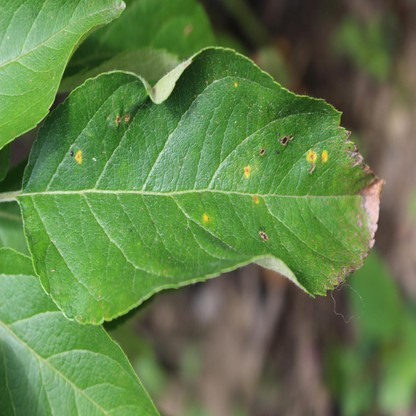rust: (356, 172, 385, 249), (351, 154, 368, 170), (307, 148, 316, 161), (242, 165, 249, 177), (75, 150, 81, 162), (321, 149, 327, 161), (203, 211, 209, 221), (252, 195, 258, 202), (234, 80, 238, 87)
